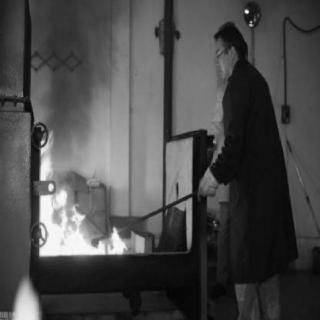Fire: (33, 96, 153, 268)
